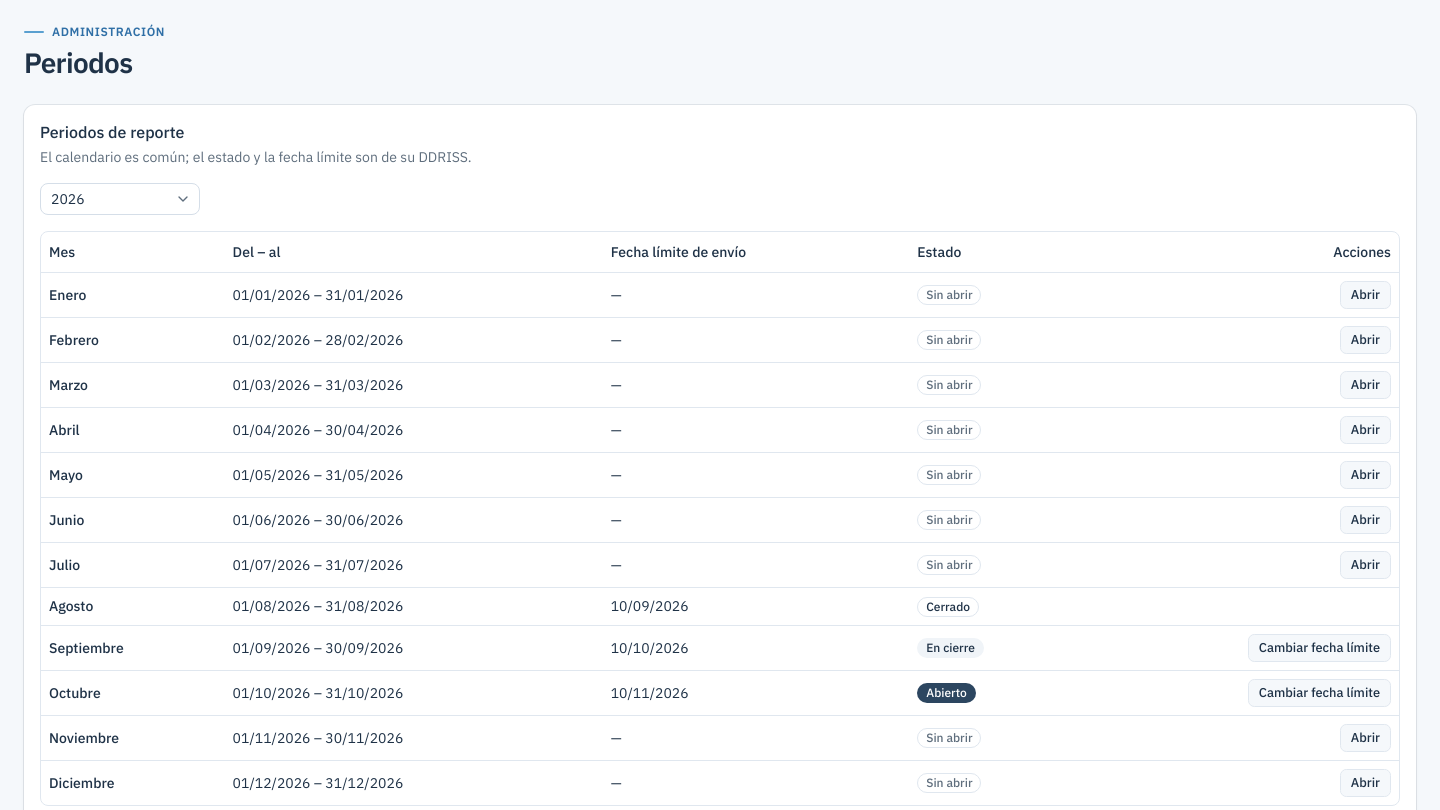
Test: Abrir y cambiar la fecha límite › en diciembre la fecha sugerida es el 10 de enero del año siguiente
This screenshot has width=1440, height=810.
Click the button "Abrir" in the row of "Diciembre". click: (1365, 783)
box: [1340,769,1391,797]
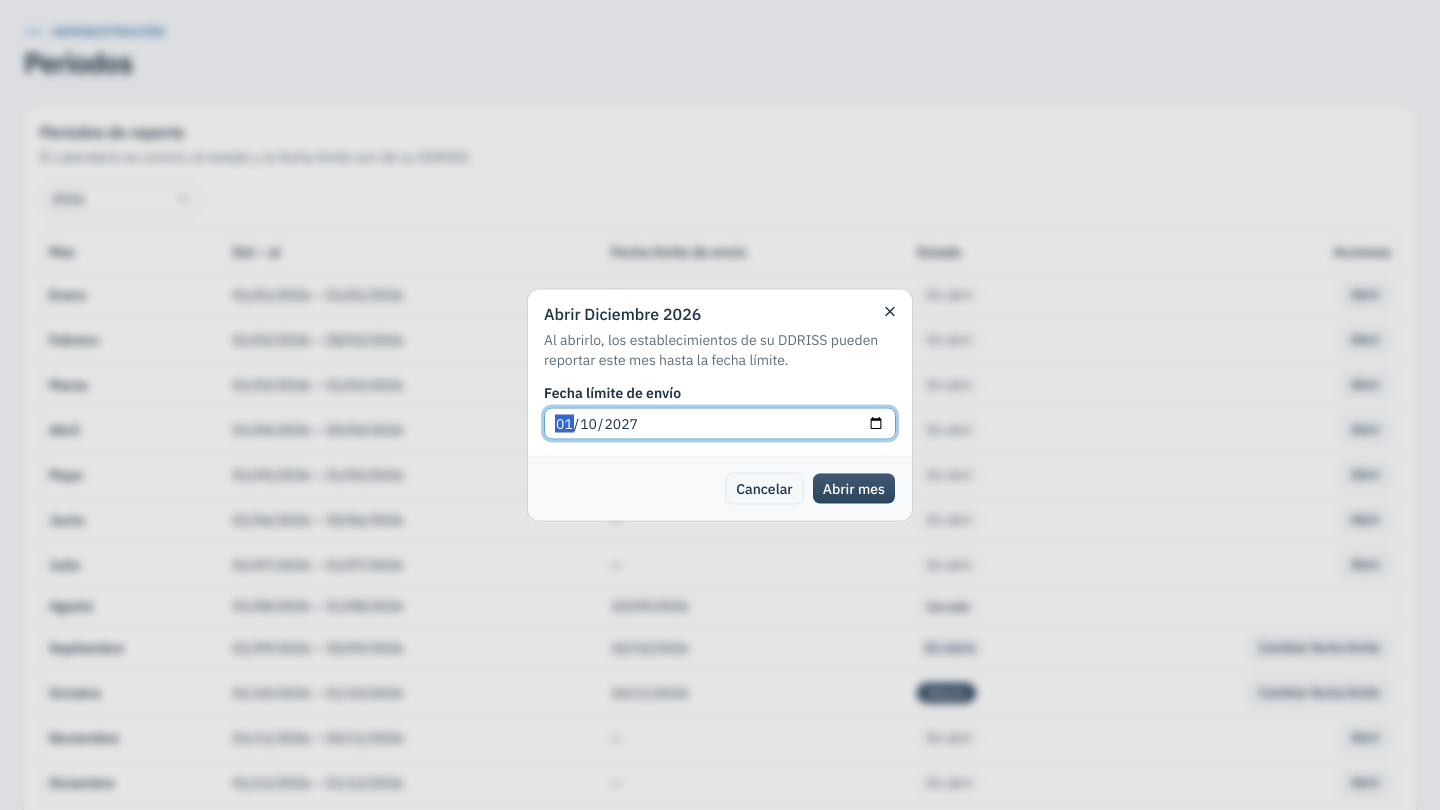
Expected: the date field labelled "Fecha límite de envío" holds "2027-01-10", [544,408,896,440]
